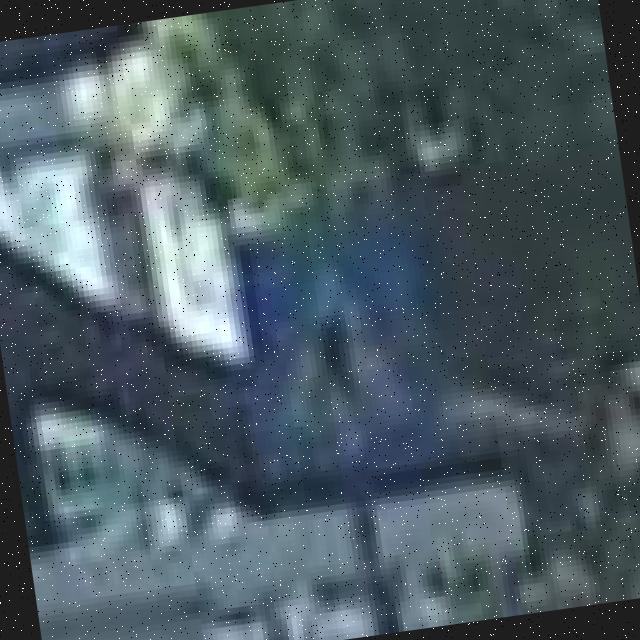Przejscie dla pieszych: (233, 208, 452, 491)
